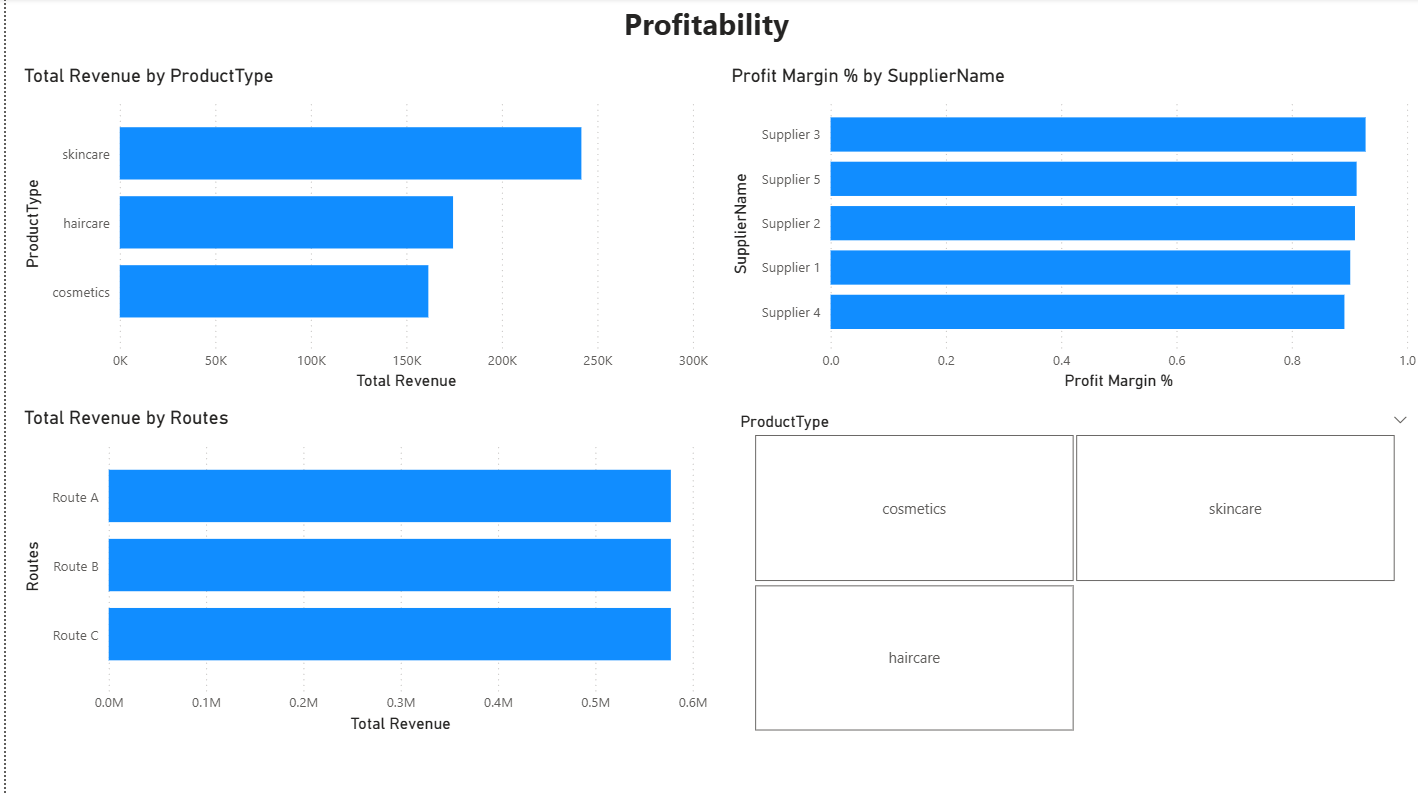

What the dashboard file says about the page in this screenshot:
{"tool":"powerbi","page":{"name":"Page 4","canvas":[1280,720],"ordinal":3},"visuals":[{"type":"textbox","box":[553.7,0,172.6,47.9],"z":0},{"type":"clusteredBarChart","fields":{"Category":["DimProduct.ProductType"],"Y":["FactSupplyChain.Total Revenue"]},"box":[10.8,59.9,629.2,299.6],"z":1000},{"type":"clusteredBarChart","fields":{"Category":["DimSupplier.SupplierName"],"Y":["FactSupplyChain.Profit Margin %"]},"box":[650.8,59.9,629.2,299.6],"z":2000},{"type":"clusteredBarChart","fields":{"Category":["DimShipping.Routes"],"Y":["FactSupplyChain.Total Revenue"]},"box":[11,370,629,300],"z":3000},{"type":"slicer","fields":{"Values":["DimProduct.ProductType"]},"box":[651,370,629,300],"z":4000}]}

Visuals, with their boxes in screenshot pixels (x1, y1, x2, y2), scaled from the page's 1280x720 canvas onto the 1418x793 screenshot:
textbox: left=613, top=0, right=805, bottom=53
clusteredBarChart - DimProduct.ProductType x FactSupplyChain.Total Revenue: left=12, top=66, right=709, bottom=396
clusteredBarChart - DimSupplier.SupplierName x FactSupplyChain.Profit Margin %: left=721, top=66, right=1417, bottom=396
clusteredBarChart - DimShipping.Routes x FactSupplyChain.Total Revenue: left=12, top=408, right=709, bottom=738
slicer - DimProduct.ProductType: left=721, top=408, right=1417, bottom=738
